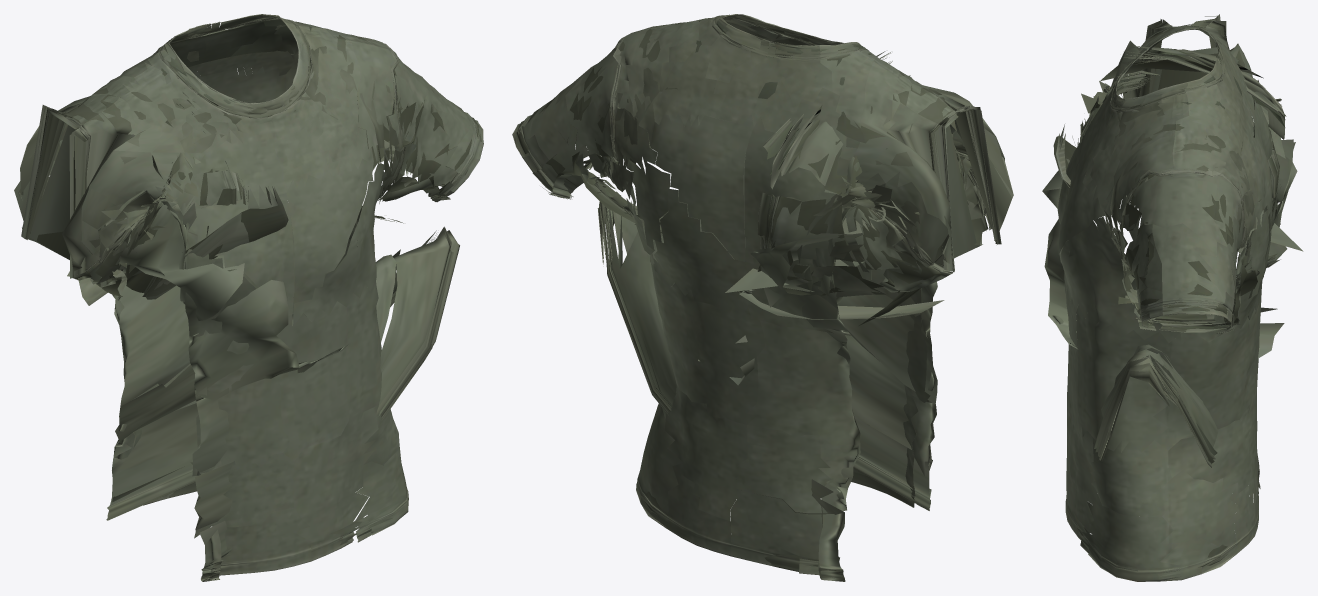
The model's file is dante.mobile.glb.
3 renders of one model, left to right at view 1: azimuth 30°, elevation 25°; view 2: azimuth 150°, elevation 25°; view 3: azimuth 270°, elevation 25°, orthographic. The views are drawn at different scales.
Visible parts, largest first — view 1: geometry_0; view 2: geometry_0; view 3: geometry_0.
Part boxes in pixels (<box>): geometry_0: <box>14,14,483,581</box>; geometry_0: <box>512,14,1013,581</box>; geometry_0: <box>1042,14,1303,581</box>.
Bounding box in the file's own units: 0.672 × 0.7039 × 0.3602.
Materials: 1 (1 with a texture image).
